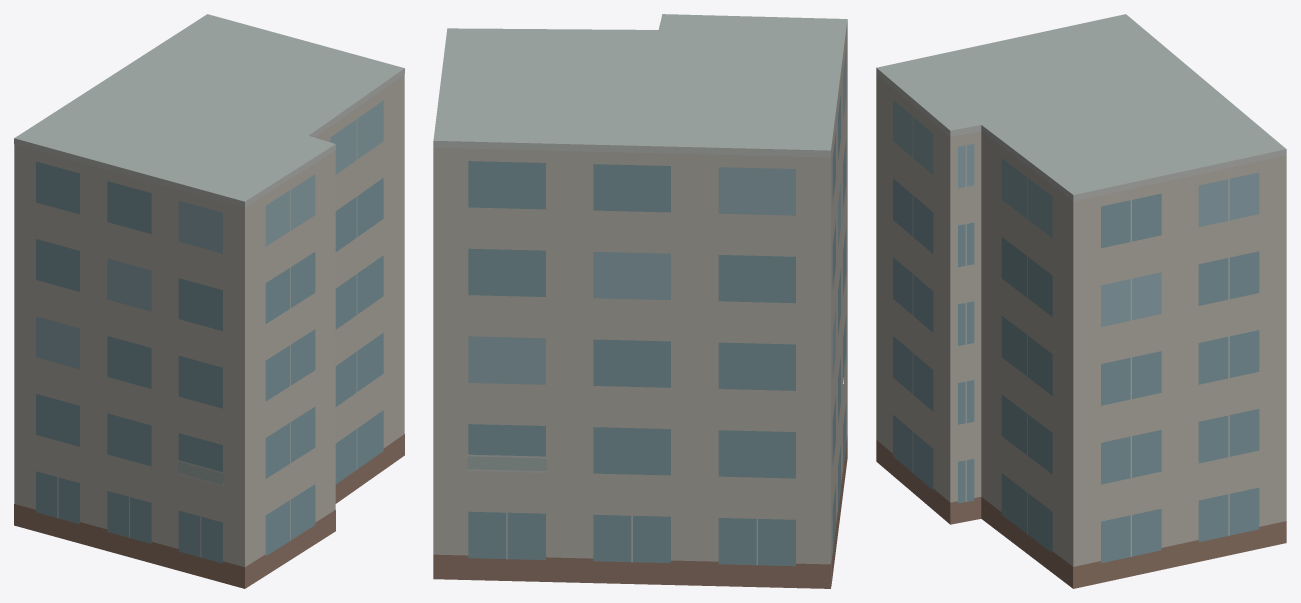
Rendered from survey-upis-33045029.glb.
3 views of the same model, side by side, from view 1: azimuth 30°, elevation 25°; view 2: azimuth 150°, elevation 25°; view 3: azimuth 270°, elevation 25° (orthographic). The views are drawn at different scales.
Parts seen in each view (by area): view 1: survey-upis-33045029.tmp; view 2: survey-upis-33045029.tmp; view 3: survey-upis-33045029.tmp.
Boxes of the visible parts, x1,y1,x2,y2 form: survey-upis-33045029.tmp: [14, 14, 404, 588]; survey-upis-33045029.tmp: [433, 14, 847, 588]; survey-upis-33045029.tmp: [876, 14, 1286, 588].
Bounding box in the file's own units: 15.09 × 15.3 × 14.45.
